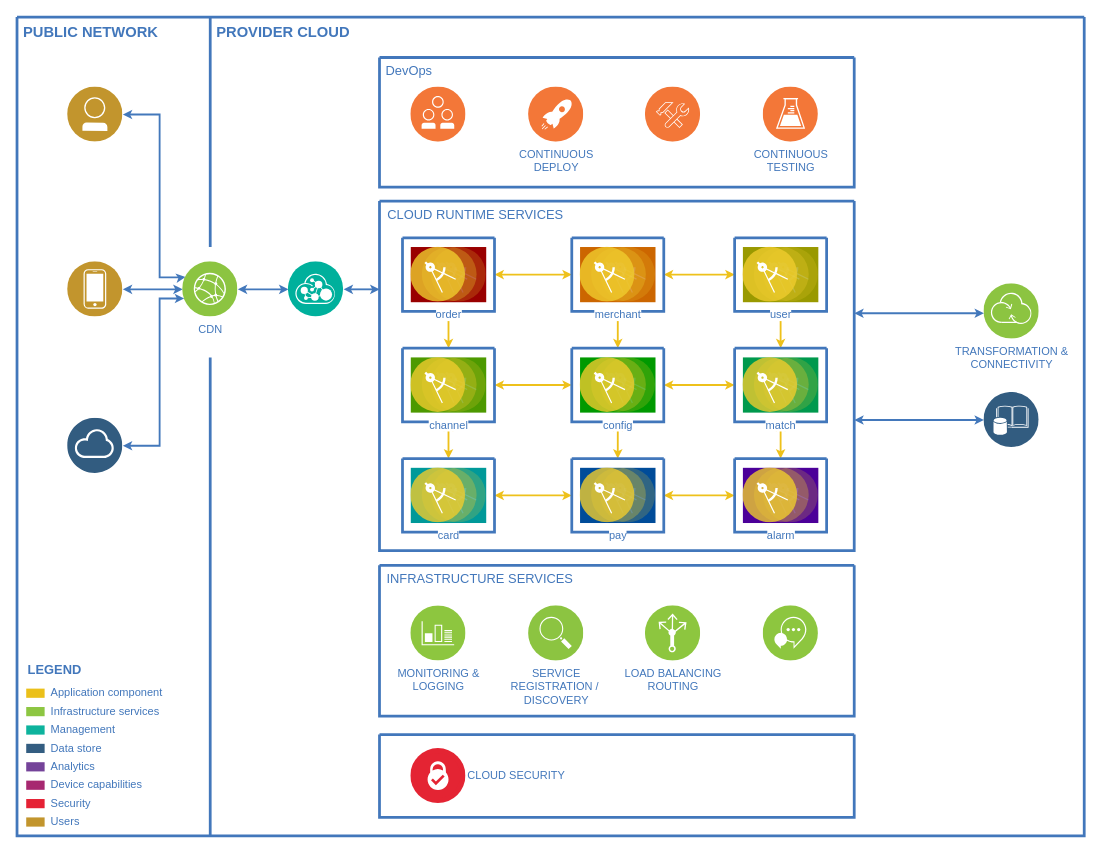
Some shapes in this 1101 by 853 pixel diagram are drawn without their labels. Here are the shapes that lost their labels. From the top down, the box of each, then its label:
(67, 86, 122, 142): ADMIN
(410, 86, 466, 142): COLLABORATIVE DEVELOPMENT
(645, 86, 700, 142): CONFIGURATION MANAGEMENT
(67, 261, 122, 316): APP
(288, 261, 343, 316): CLOUD
(983, 392, 1039, 447): CLOUD DATA SERVICES
(67, 418, 122, 473): API
(763, 605, 818, 661): INTERSERVICE COMMUNICATION
